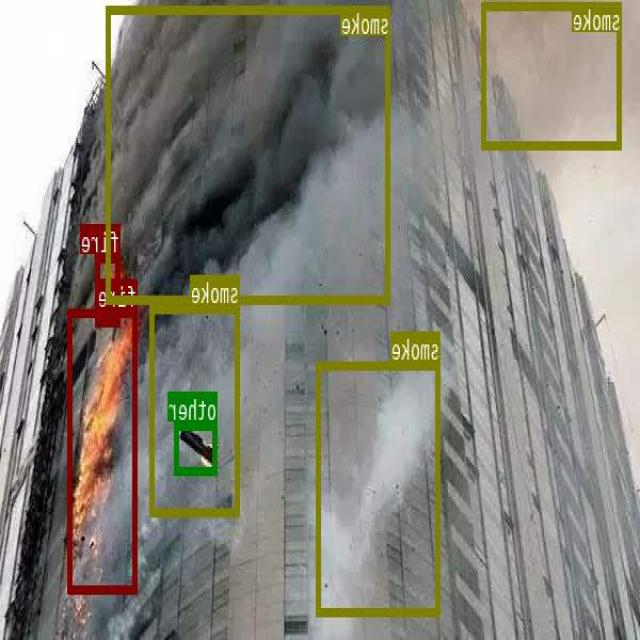fire: (69, 308, 138, 591), (97, 253, 121, 326)
other: (176, 421, 218, 473)
smoke: (108, 4, 391, 302), (318, 361, 440, 614), (483, 1, 622, 148), (151, 304, 241, 514)
